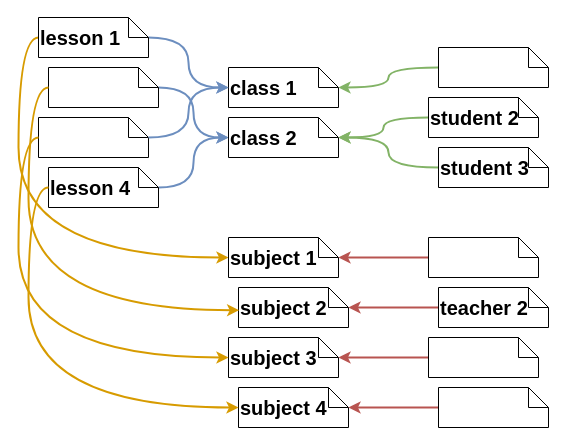
The diagram is 566 pixels wide and 445 high, and some of its shapes have lost their labels. Each missing label, with the box of its shape:
lesson 2: (48, 66, 158, 108)
lesson 3: (38, 116, 148, 158)
student 1: (438, 46, 548, 88)
teacher 1: (428, 236, 538, 278)
teacher 3: (428, 336, 538, 378)
teacher 4: (438, 386, 548, 428)
